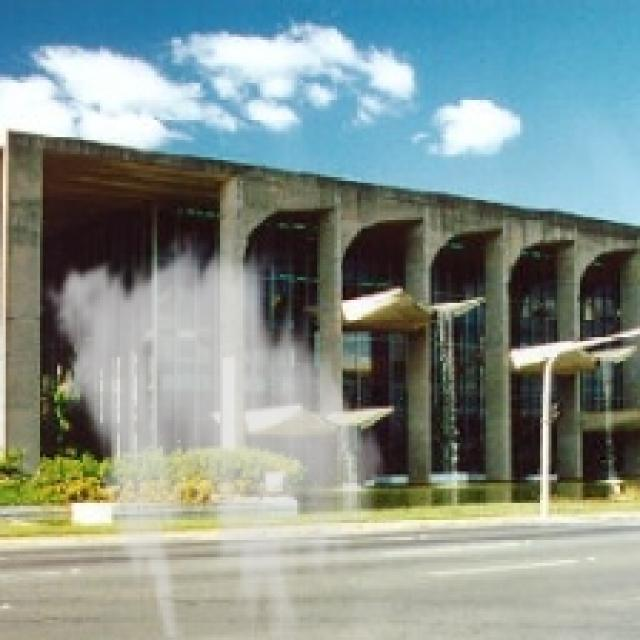Smoke: (37, 232, 397, 637)
